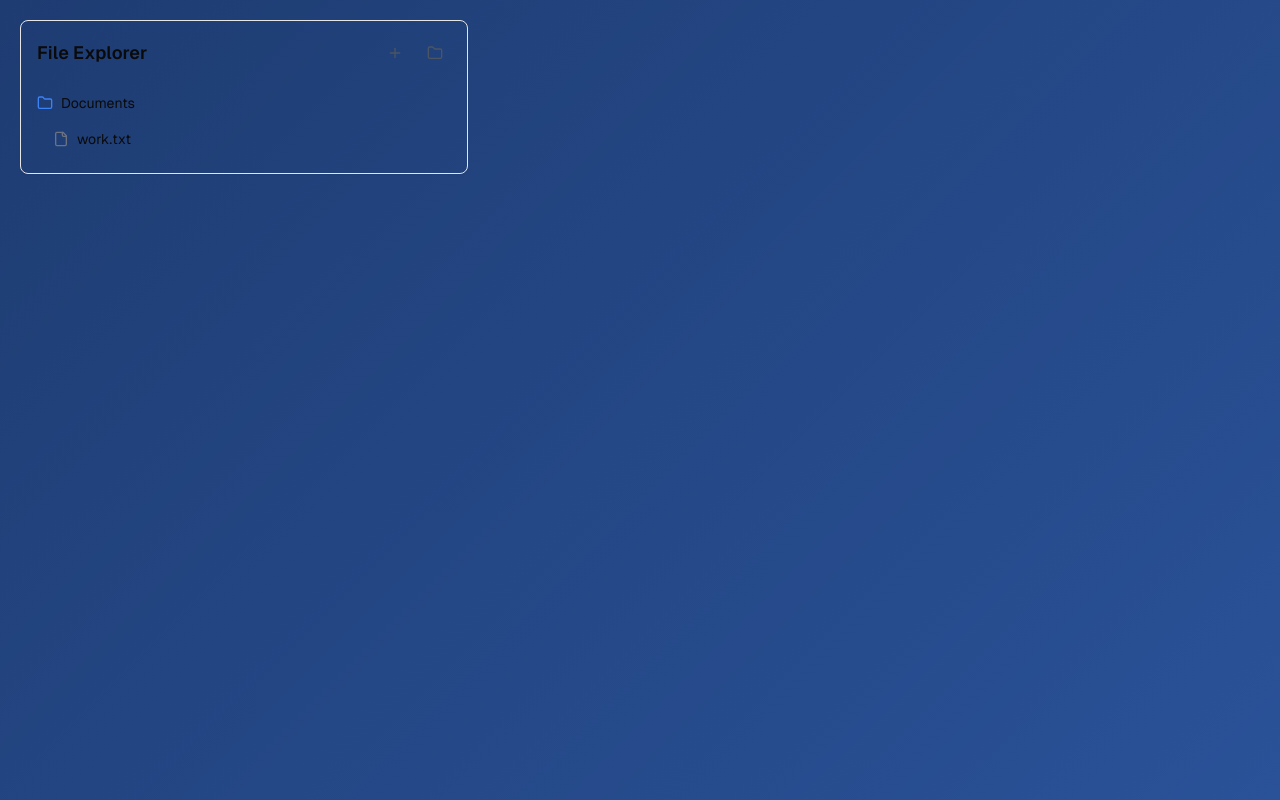
Test: FileExplorer › creates a new file at root level
Click the button with test id "addfile": coordinates (395, 53) [379,37,411,69]
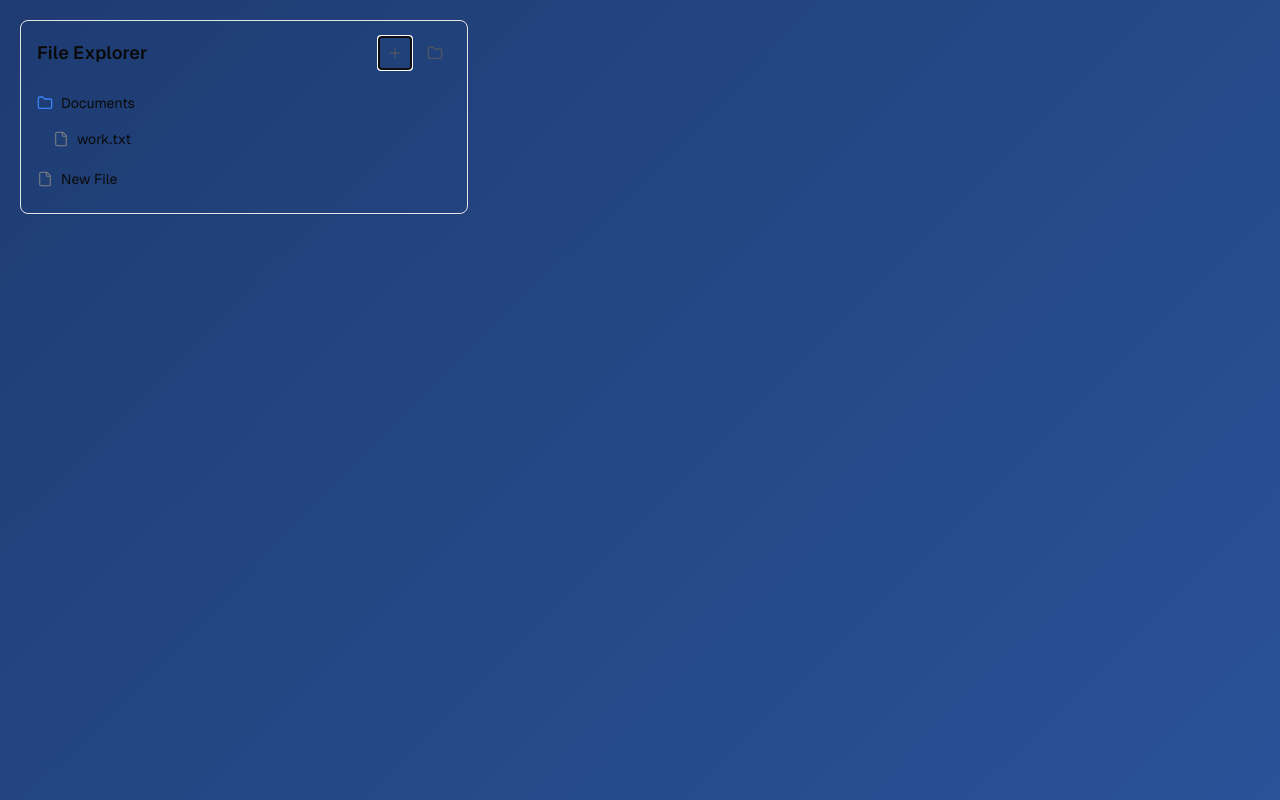
Result: the text "New File" is shown at [61,169,117,189]
